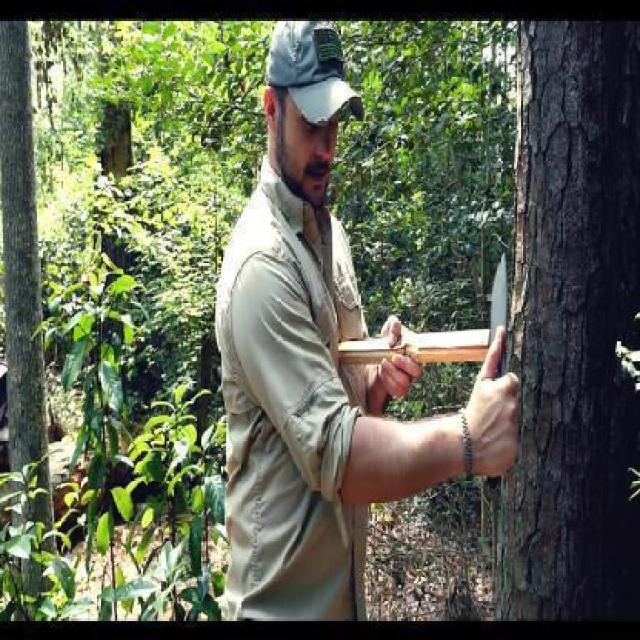-: (477, 246, 528, 465)
